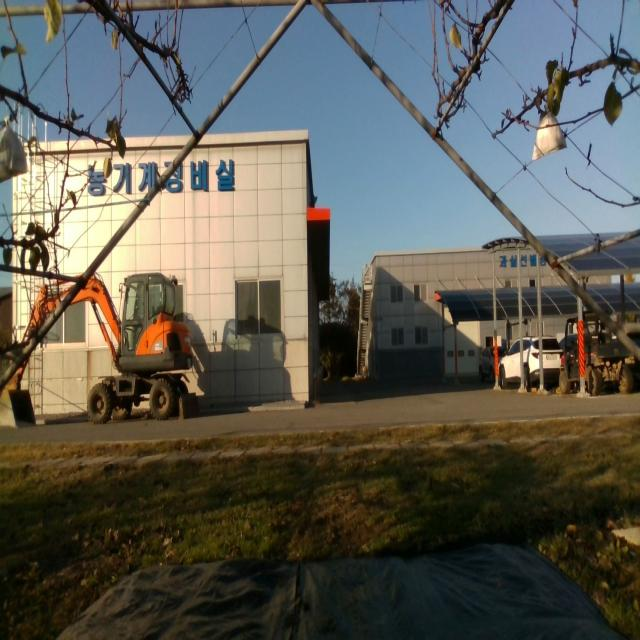pearbags: (0, 117, 27, 184), (531, 114, 566, 161)
